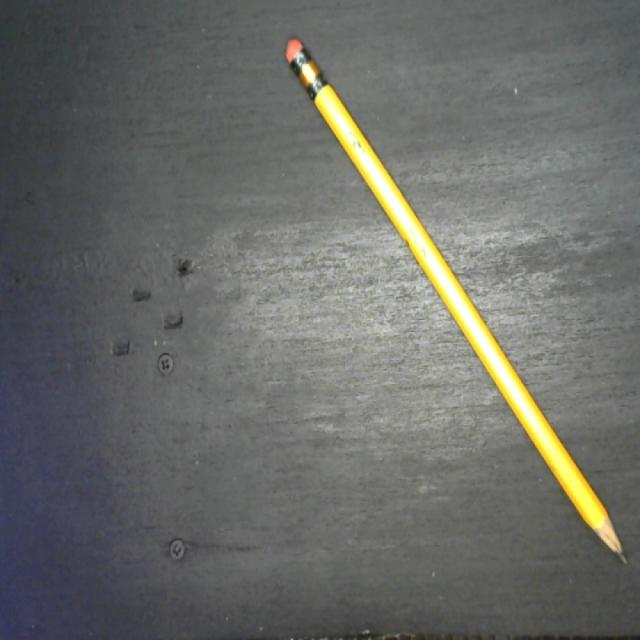biodegradable: (283, 32, 627, 565)
